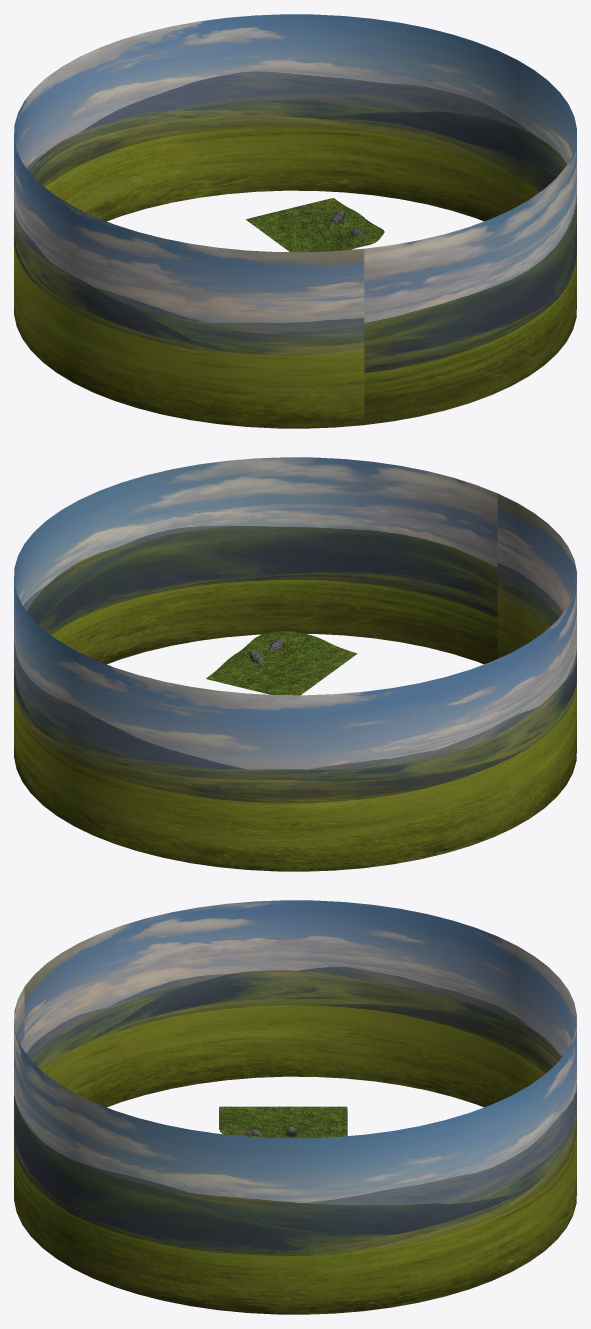
Rendered from env_nab_greatgrassyplains_pre.glb.
The picture shows the model from 3 angles, top to bottom: view 1: azimuth 30°, elevation 25°; view 2: azimuth 150°, elevation 25°; view 3: azimuth 270°, elevation 25°; orthographic projection.
Visible parts, largest first — view 1: brac_skycyllinder_mesh, nab_great_grassy_plains_ground; view 2: brac_skycyllinder_mesh, nab_great_grassy_plains_ground; view 3: brac_skycyllinder_mesh, nab_great_grassy_plains_ground.
Boxes of the visible parts, x1=… form: brac_skycyllinder_mesh: x1=14, y1=14, x2=576, y2=428; nab_great_grassy_plains_ground: x1=246, y1=198, x2=384, y2=252; brac_skycyllinder_mesh: x1=14, y1=457, x2=576, y2=871; nab_great_grassy_plains_ground: x1=206, y1=631, x2=357, y2=695; brac_skycyllinder_mesh: x1=14, y1=900, x2=576, y2=1314; nab_great_grassy_plains_ground: x1=219, y1=1106, x2=347, y2=1138.
Size of the model in its own units: 383 by 133 by 383.
4 materials, 4 textured.
